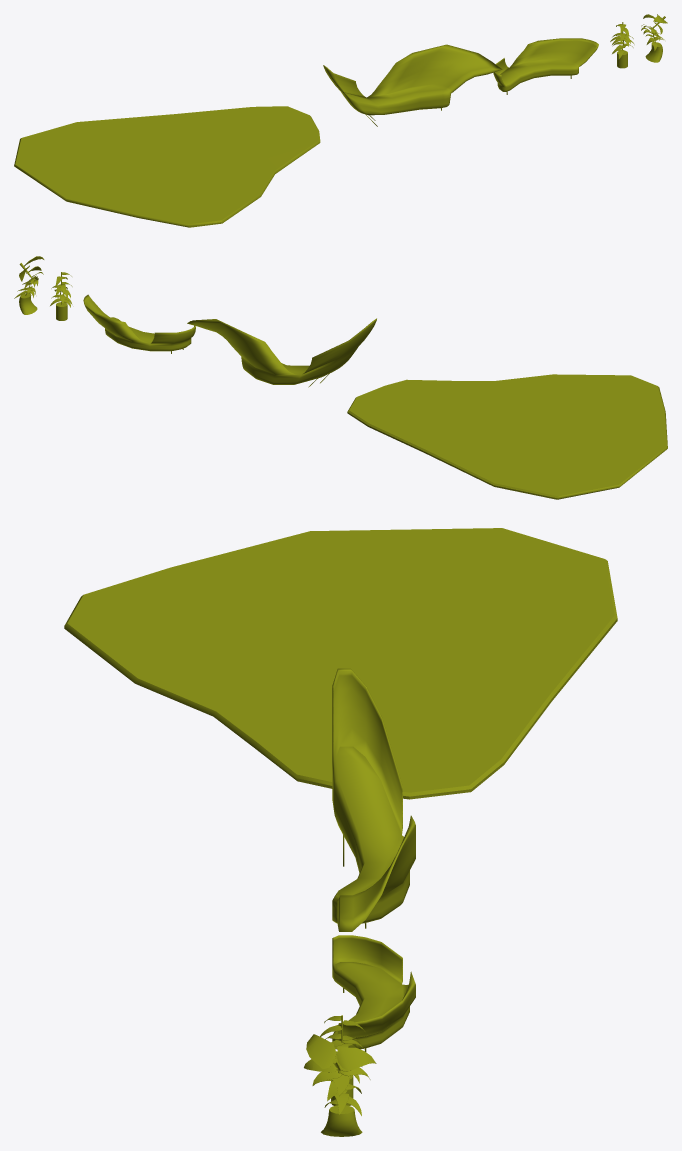
Rendered from Plateau_TV.FBX.
The picture shows the model from 3 angles, top to bottom: view 1: azimuth 30°, elevation 25°; view 2: azimuth 150°, elevation 25°; view 3: azimuth 270°, elevation 25°; orthographic projection. The views are drawn at different scales.
Visible parts, largest first — view 1: Tapis, Sofa_Dali, Sofa_Normal, Plante_Dali, Plante_Normale; view 2: Tapis, Sofa_Dali, Sofa_Normal, Plante_Dali, Plante_Normale; view 3: Tapis, Sofa_Dali, Sofa_Normal, Plante_Dali.
Part boxes in pixels (<box>): Tapis: <box>14,106,320,227</box>; Sofa_Dali: <box>323,44,502,126</box>; Sofa_Normal: <box>493,38,598,94</box>; Plante_Dali: <box>641,14,667,62</box>; Plante_Normale: <box>610,22,634,68</box>; Tapis: <box>347,374,667,499</box>; Sofa_Dali: <box>187,318,376,387</box>; Sofa_Normal: <box>83,294,195,353</box>; Plante_Dali: <box>14,256,44,314</box>; Plante_Normale: <box>50,272,72,320</box>; Tapis: <box>64,528,617,799</box>; Sofa_Dali: <box>332,668,415,931</box>; Sofa_Normal: <box>332,935,415,1051</box>; Plante_Dali: <box>304,1034,376,1136</box>.
Bounding box in the file's own units: 2.3 × 0.2629 × 0.8995.
